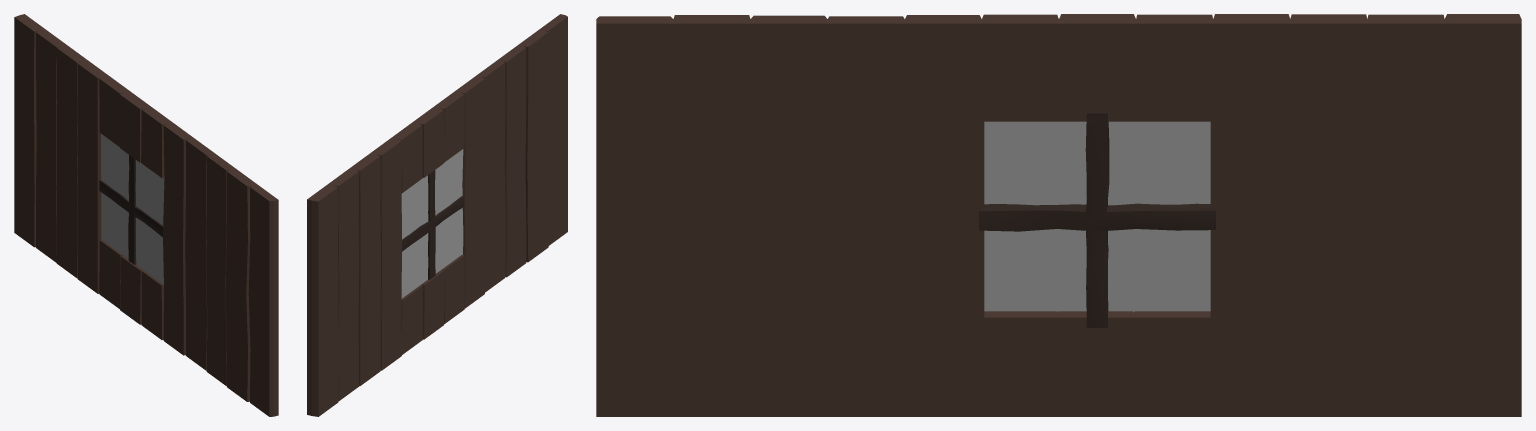
Rendered from WindowWall.fbx.
3 renders of one model, left to right at view 1: azimuth 30°, elevation 25°; view 2: azimuth 150°, elevation 25°; view 3: azimuth 270°, elevation 25°, orthographic. The views are drawn at different scales.
Visible parts, largest first — view 1: Wall, Glass1, Support2, Support1; view 2: Wall, Glass1, Support2, Support1; view 3: Wall, Glass1, Support1, Support2.
Part boxes in pixels (x1,y1,x2,y2): Wall: (14, 14, 278, 416); Glass1: (101, 134, 164, 284); Support2: (128, 155, 136, 264); Support1: (99, 180, 163, 237); Wall: (307, 14, 567, 416); Glass1: (401, 149, 463, 298); Support2: (428, 170, 435, 279); Support1: (402, 195, 464, 251); Wall: (596, 14, 1521, 416); Glass1: (984, 121, 1210, 312); Support1: (979, 203, 1215, 231); Support2: (1085, 112, 1109, 327).
Size of the model in its own units: 0.3412 by 5.63 by 12.01.
